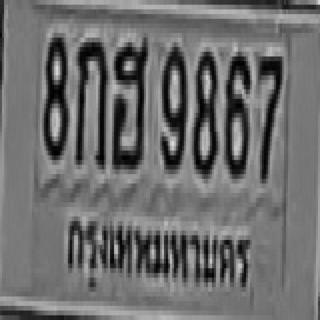A01: (74, 33, 106, 165)
A44: (110, 33, 146, 165)
N06: (224, 47, 248, 174)
N07: (256, 52, 280, 179)
N08: (192, 47, 216, 174), (42, 33, 66, 155)
N09: (159, 42, 185, 165)
P04: (60, 203, 254, 305)
